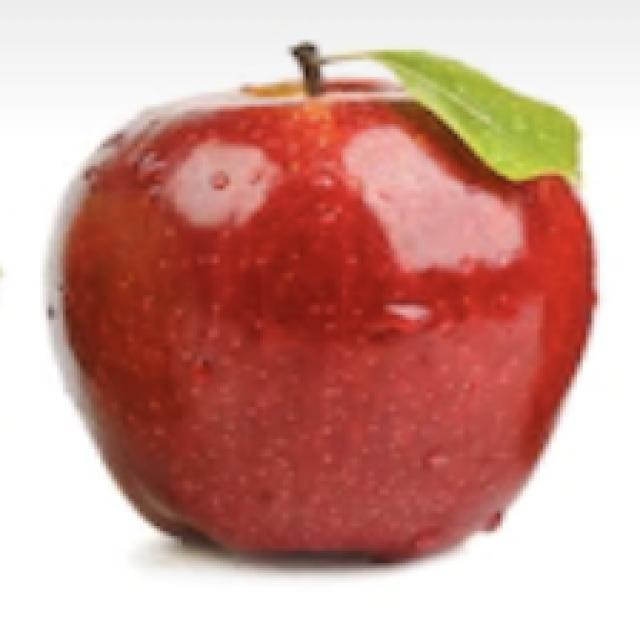Fresh Apple: (63, 81, 555, 566)
